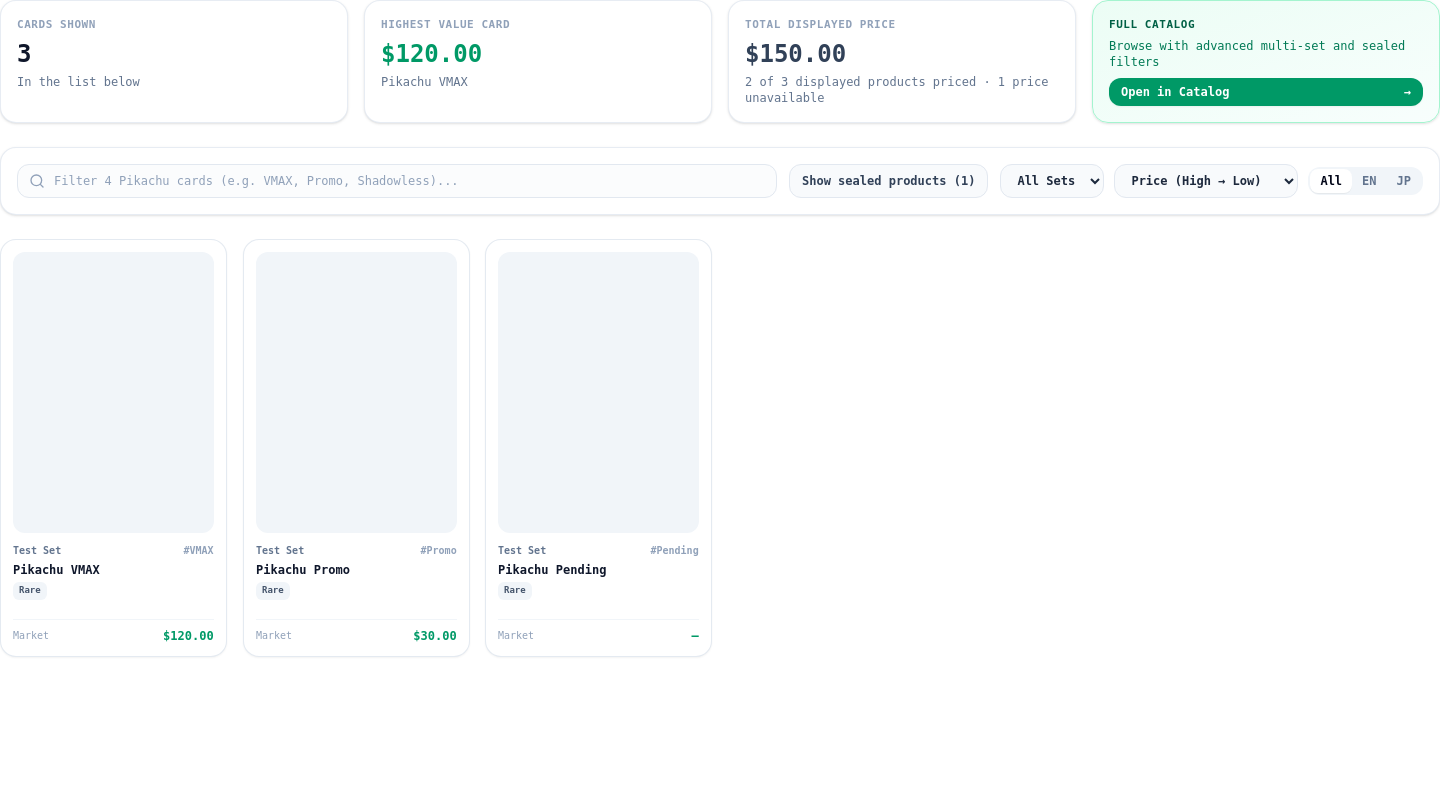
derives displayed metrics locally and hides sealed products by default
The image size is (1440, 810).
Check: the text "3" is shown, box [17,40,32,68]
Check: the text "$120.00" is shown, box [381,40,482,68]
Click the button "Show sealed products (1)" at (889, 180), box [789,164,988,198]
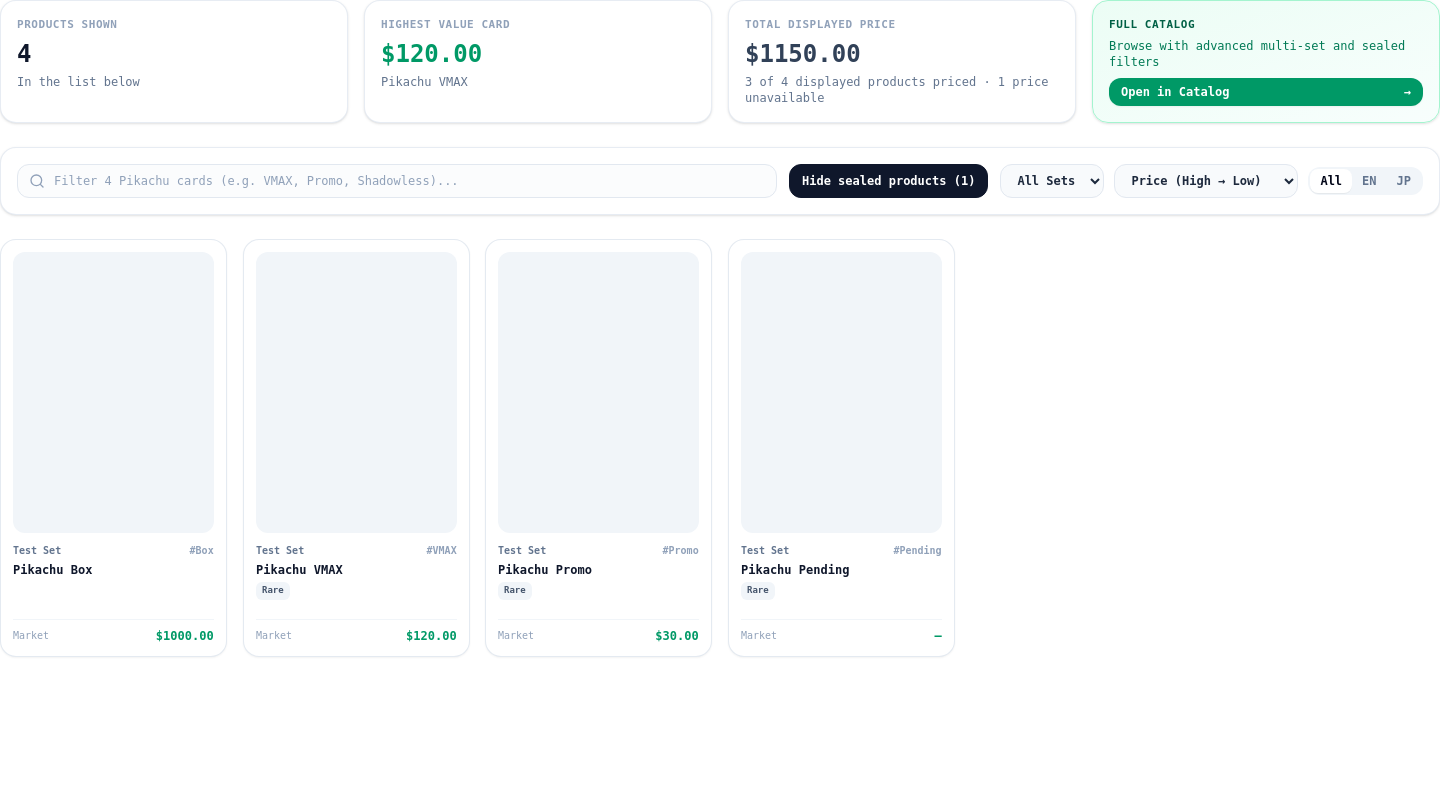
Check: the text "4" is shown, box [17,40,32,68]
Check: the text "$1150.00" is shown, box [745,40,861,68]
Check: the heading "Pikachu Box" is shown, box [13,562,92,576]
